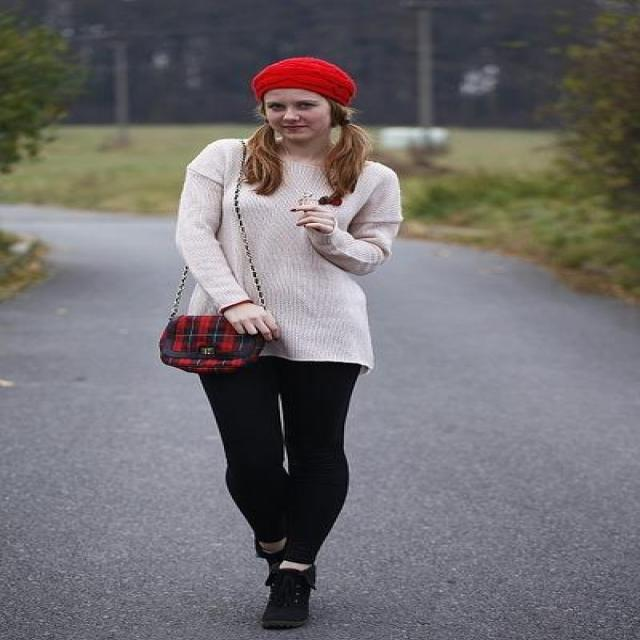bag: (158, 300, 294, 370)
hat: (252, 56, 354, 104)
jacket: (166, 141, 405, 368)
pants: (186, 356, 368, 570)
shoe: (261, 562, 315, 631)
